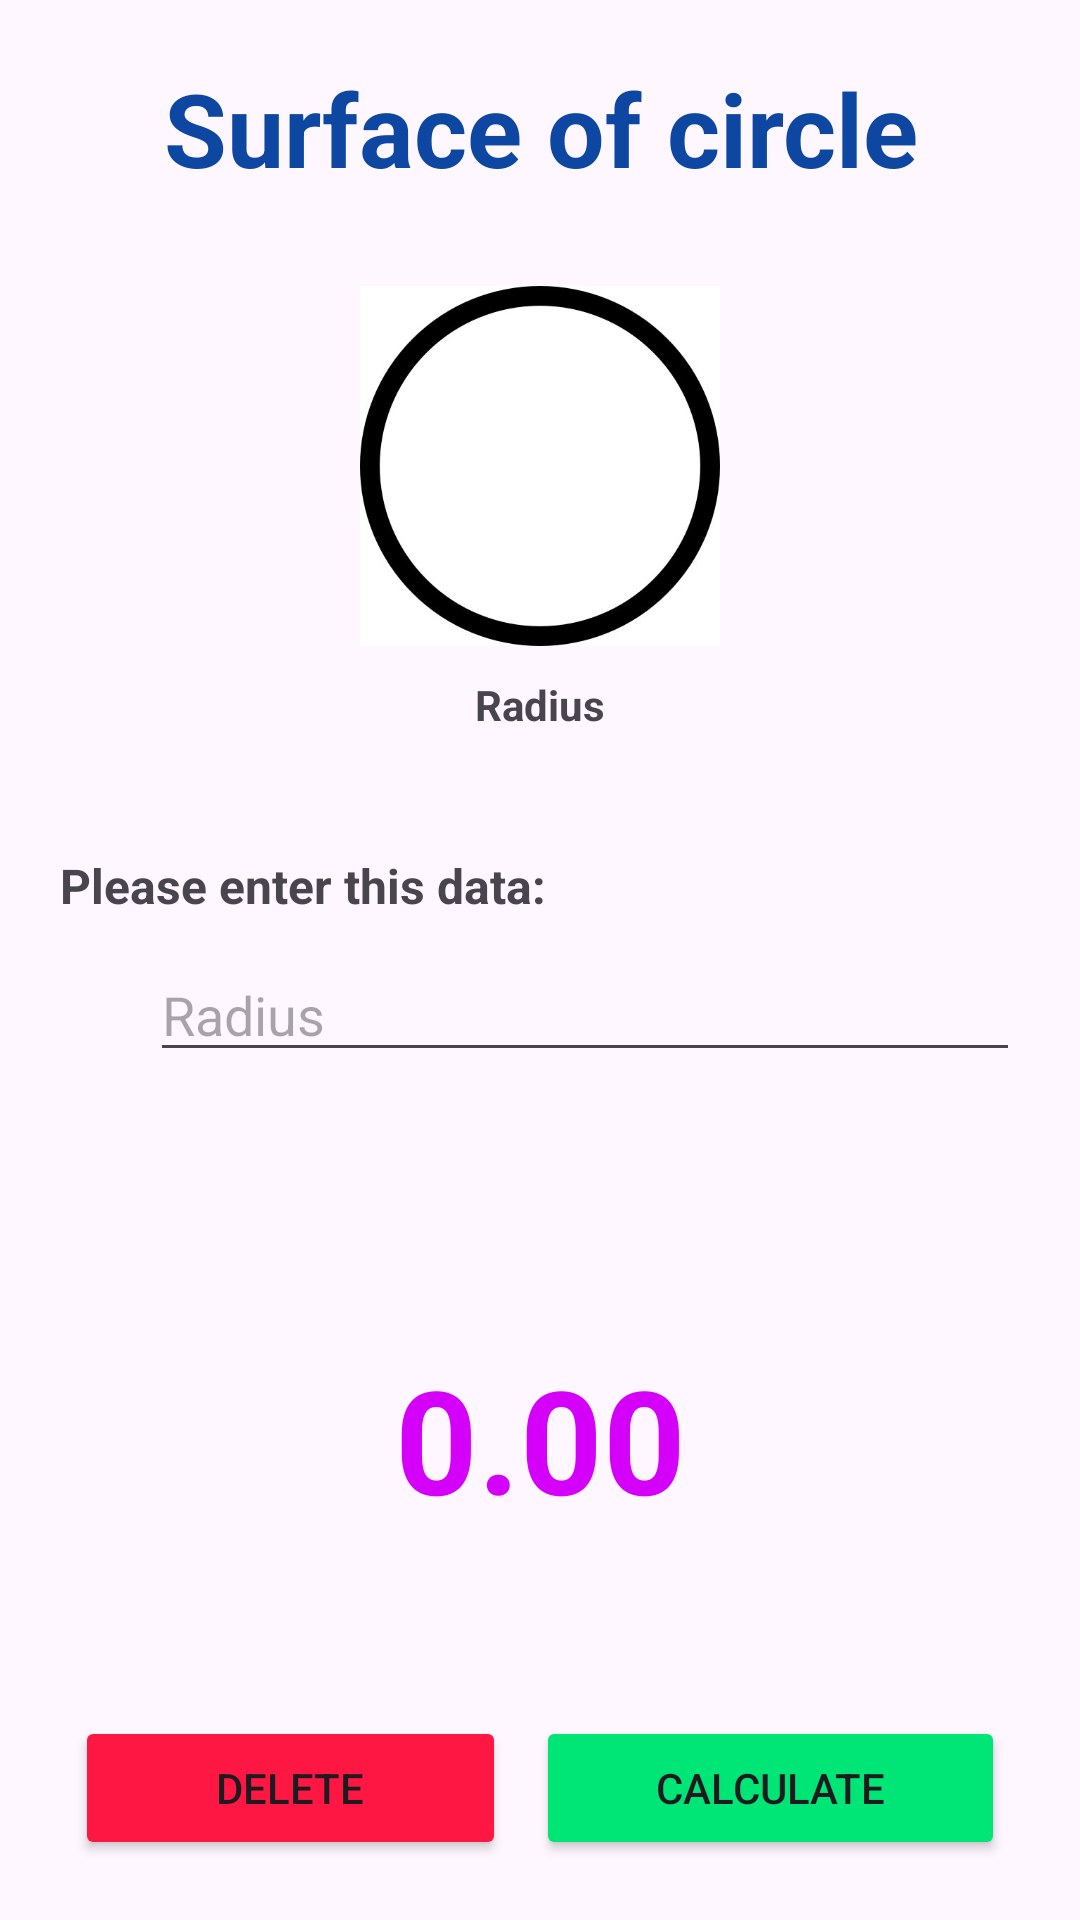

Point at icon controls on the screen. Image size 1080 × 1920, points as [x,y].
circulo: [540,466]
